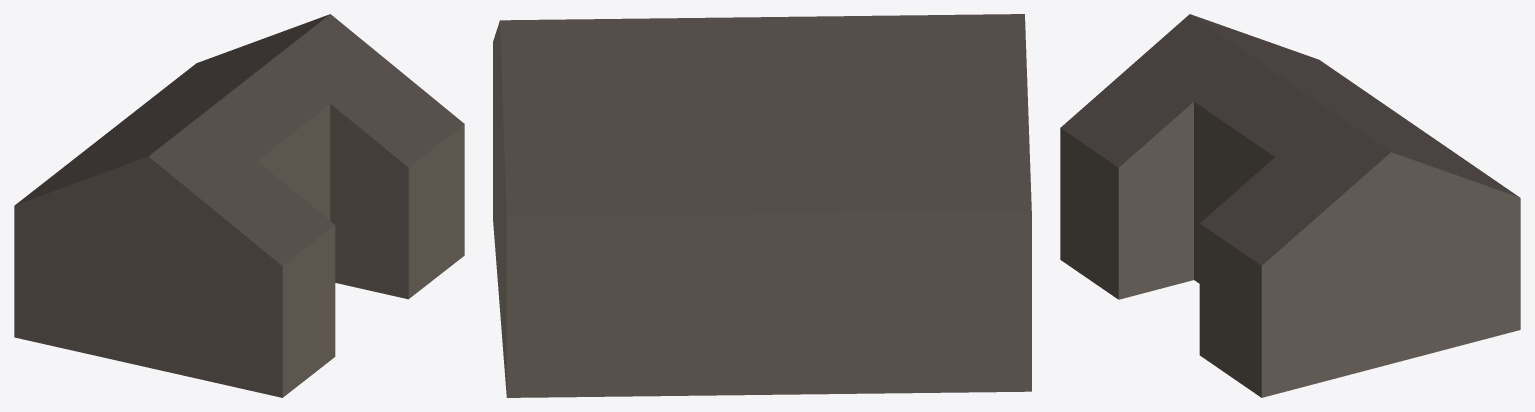
3 views of the same model, side by side, from view 1: azimuth 30°, elevation 25°; view 2: azimuth 150°, elevation 25°; view 3: azimuth 270°, elevation 25° (orthographic). The views are drawn at different scales.
Visible parts, largest first — view 1: HP-w859823886; view 2: HP-w859823886; view 3: HP-w859823886.
Boxes of the visible parts, box(x1,y1,x2,y2) form: HP-w859823886: box(14, 14, 464, 397); HP-w859823886: box(493, 14, 1031, 397); HP-w859823886: box(1060, 14, 1520, 397).
Size of the model in its own units: 30.16 by 14.44 by 28.44.
